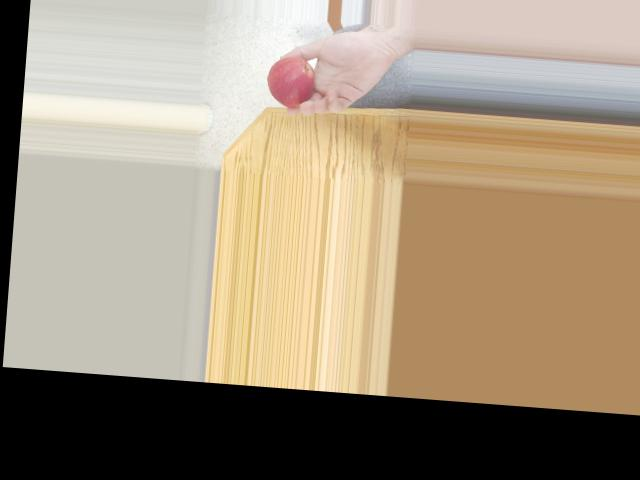apple: (262, 54, 318, 108)
